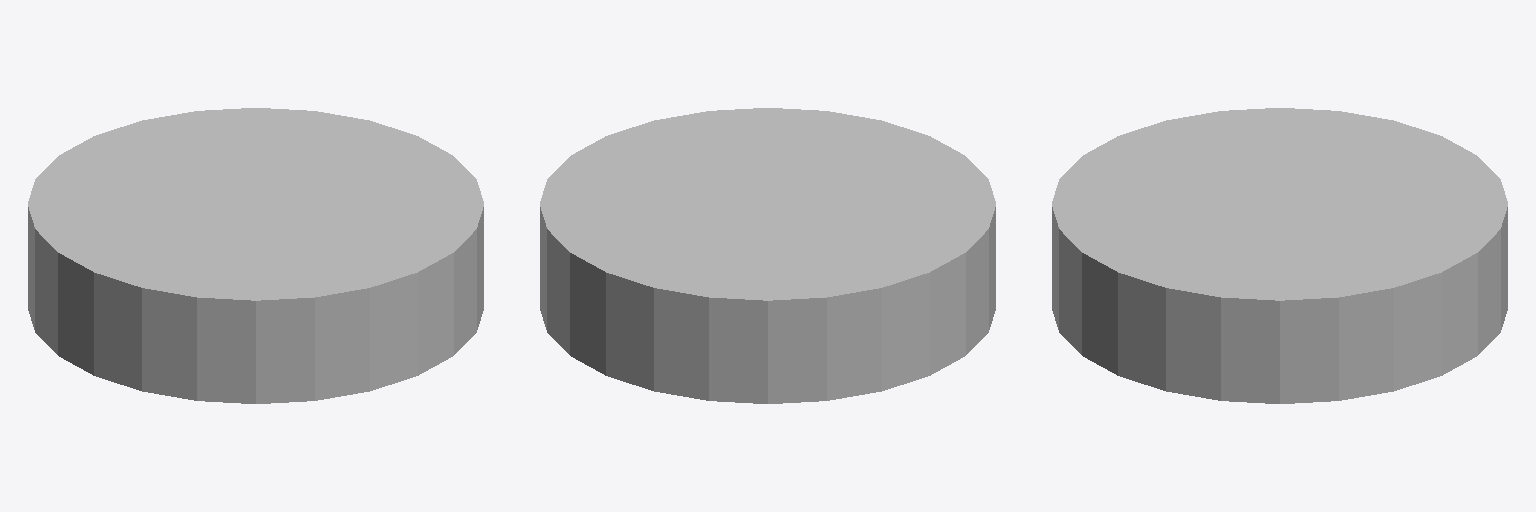
Rendered from Light Disk for cabinets.obj.
3 views of the same model, side by side, from view 1: azimuth 30°, elevation 25°; view 2: azimuth 150°, elevation 25°; view 3: azimuth 270°, elevation 25° (orthographic).
Parts seen in each view (by area): view 1: Light Disk for cabinets.obj; view 2: Light Disk for cabinets.obj; view 3: Light Disk for cabinets.obj.
Part boxes in pixels (x1,y1,x2,y2): Light Disk for cabinets.obj: (28,108,483,403); Light Disk for cabinets.obj: (540,108,995,403); Light Disk for cabinets.obj: (1052,108,1507,403).
Size of the model in its own units: 0.1524 by 0.0381 by 0.1524.